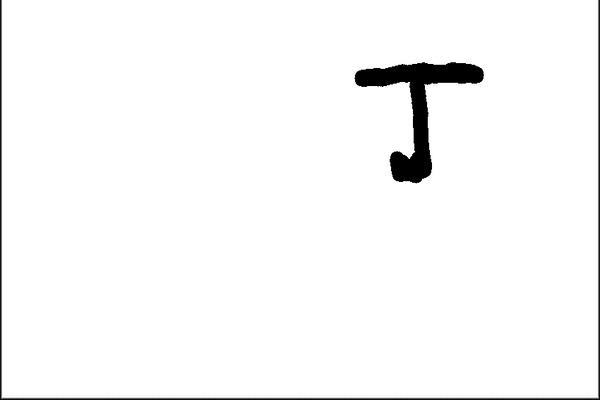J: (349, 53, 490, 192)
